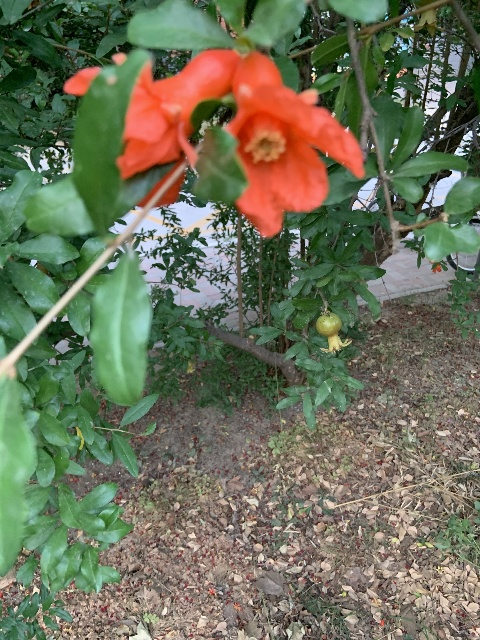flower: (214, 50, 365, 238), (63, 48, 239, 205)
mid-growth: (314, 312, 352, 353)
